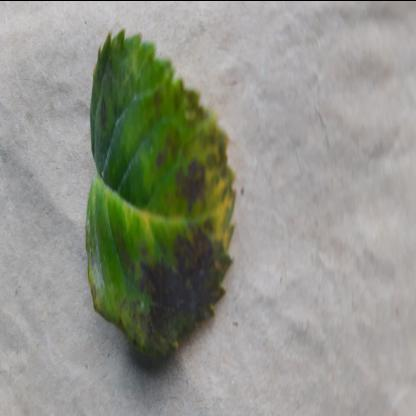downy-mildew: (84, 20, 240, 358)
